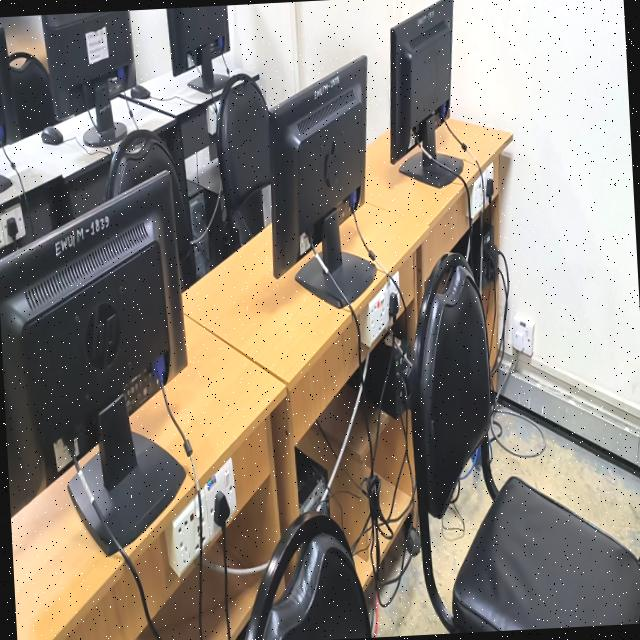Chair: (406, 252, 640, 634), (242, 514, 370, 640), (105, 128, 191, 259), (216, 74, 270, 243), (10, 52, 54, 138)
Cpu: (294, 448, 328, 515)
Monitor: (0, 172, 185, 551), (268, 56, 374, 307), (389, 0, 462, 186), (40, 10, 135, 141), (165, 5, 229, 91), (0, 28, 14, 127)
Mouse: (40, 125, 62, 144), (129, 84, 149, 98)
